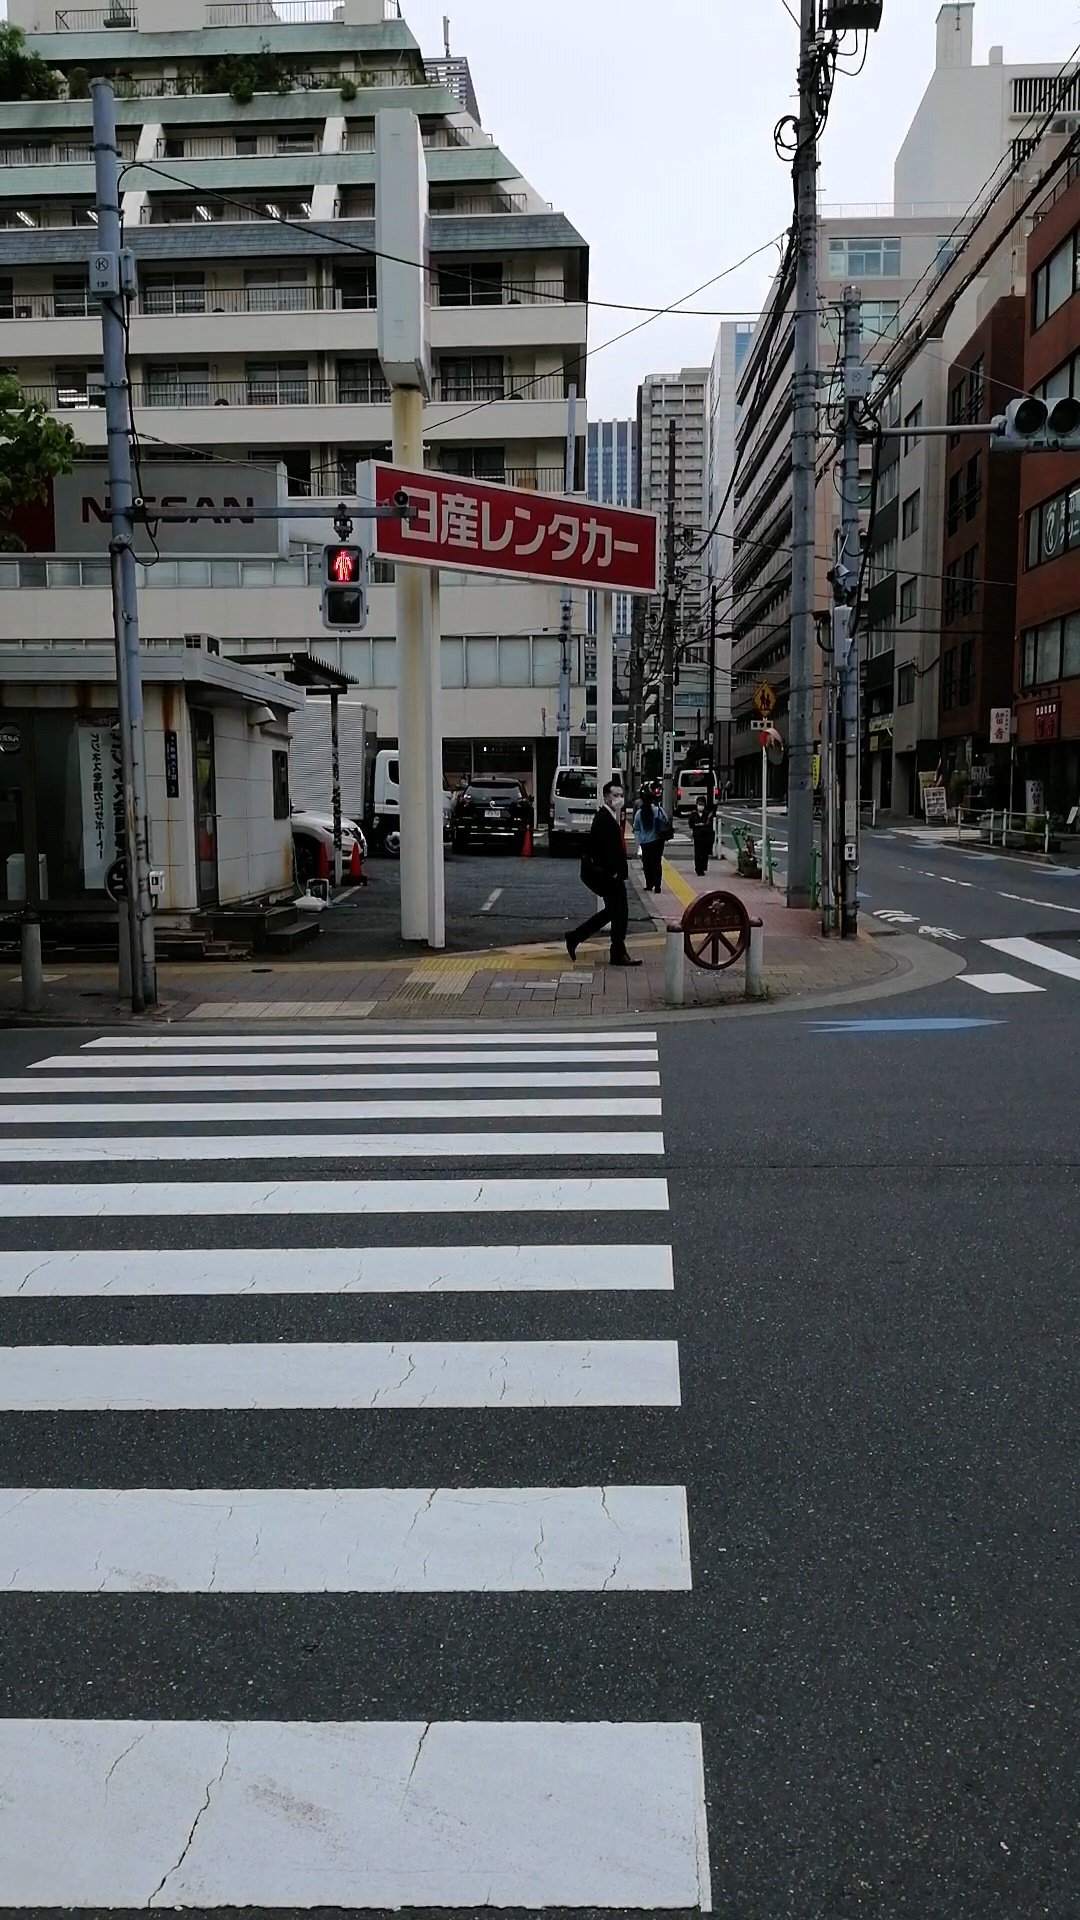red: (320, 541, 367, 630)
